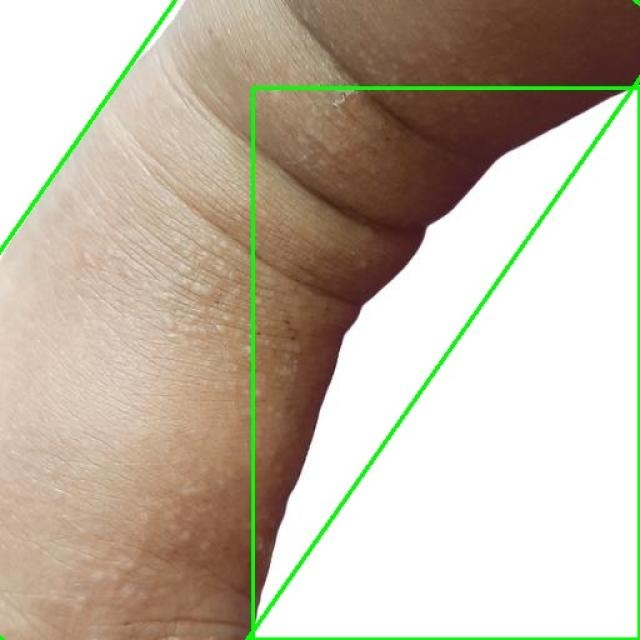Scabies: (0, 0, 640, 640), (252, 88, 639, 639)
